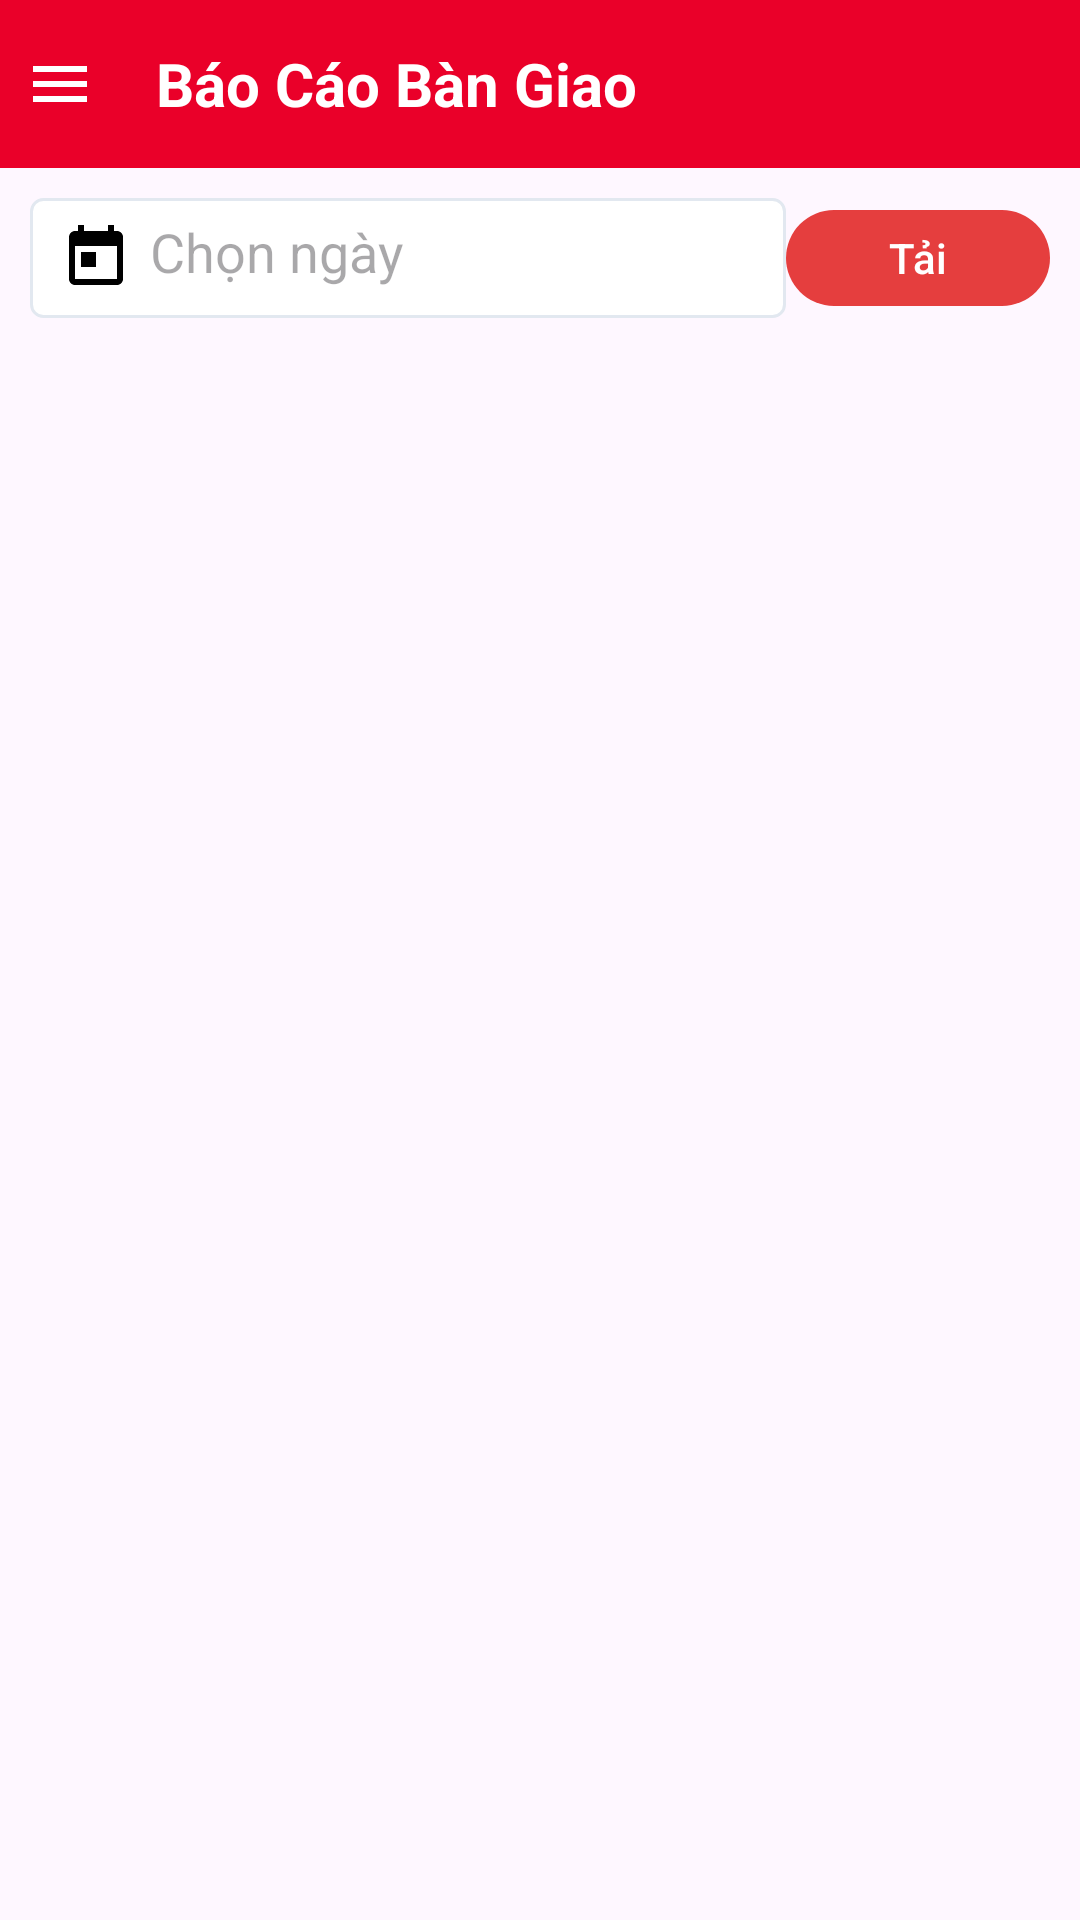

Where icons sit on this 1080px×1920px app screen, as (x1, y1, x2, y2):
Menu: (33, 66, 87, 102)
